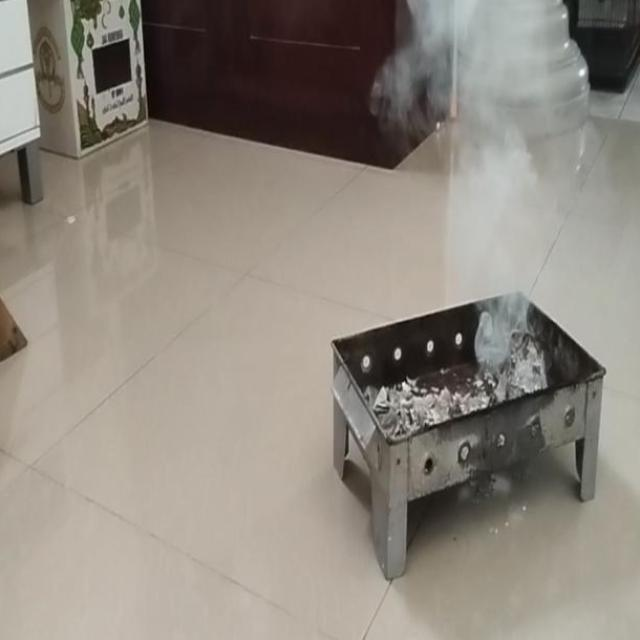fire: (370, 0, 533, 145), (446, 146, 539, 338)
